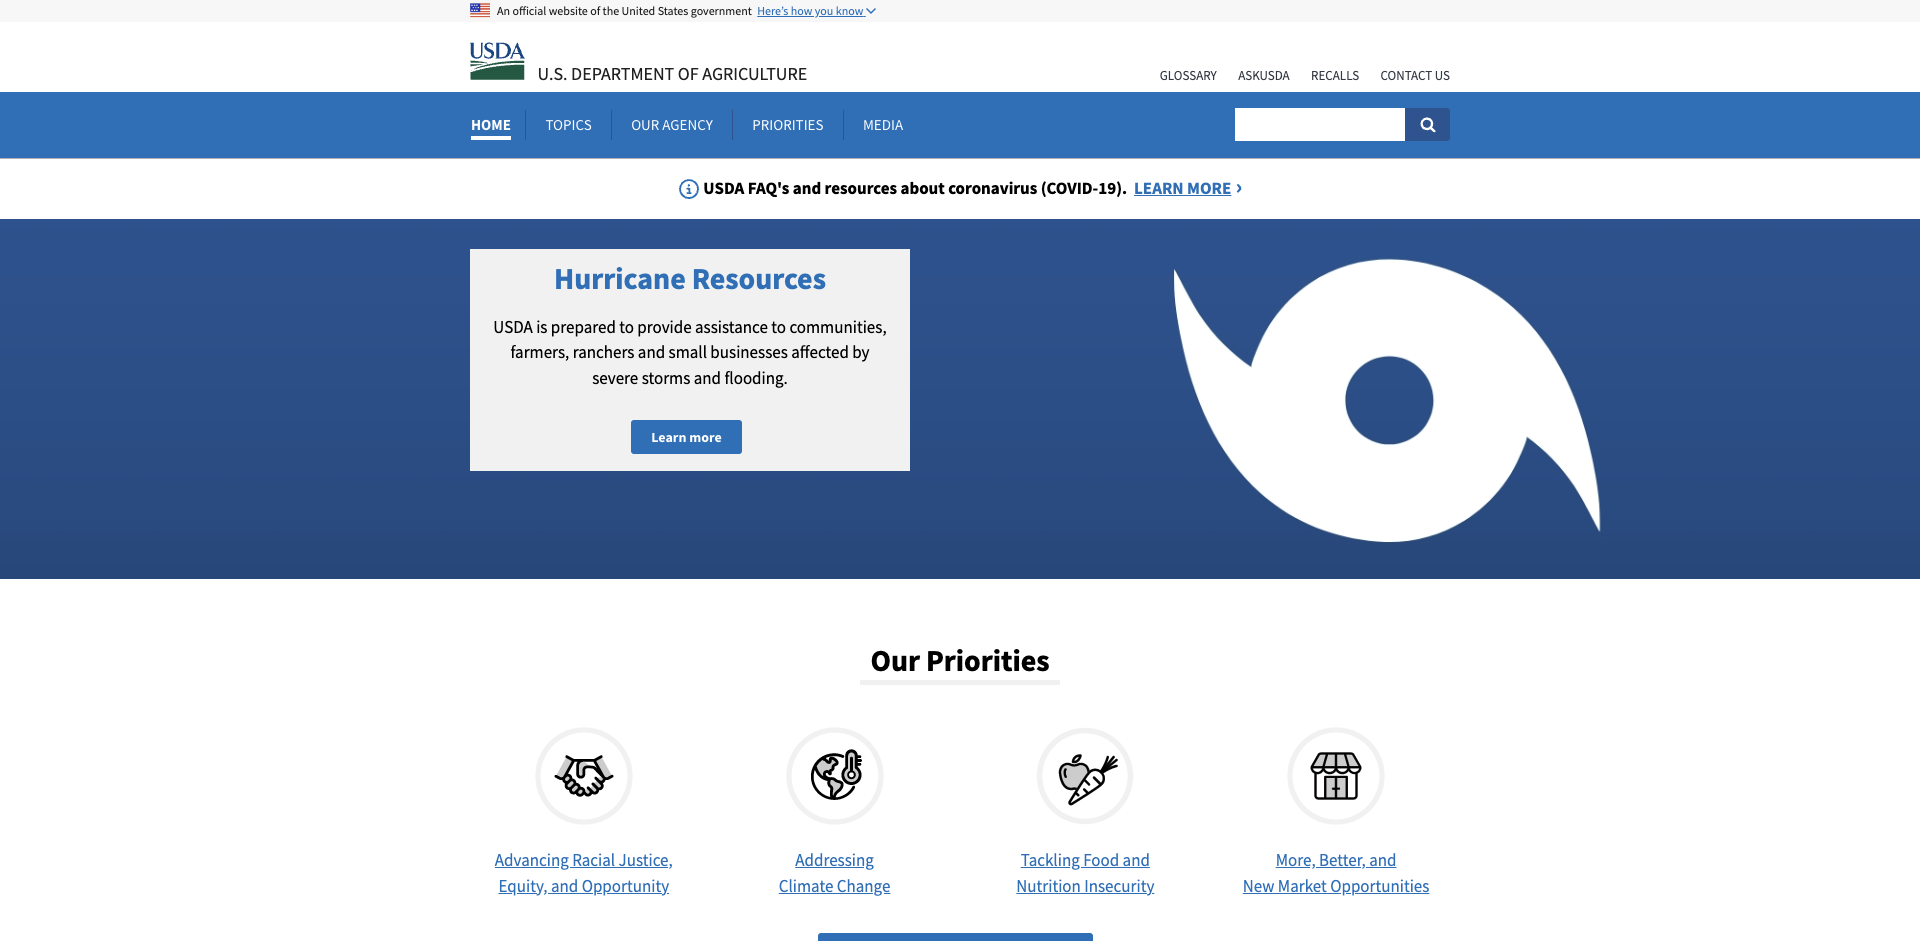button: (611, 92, 732, 158), (732, 92, 844, 158), (525, 92, 612, 158), (842, 92, 923, 158), (632, 420, 742, 455), (818, 934, 1093, 941), (757, 2, 863, 18), (1404, 108, 1450, 141), (757, 5, 876, 17)
input: (1236, 108, 1404, 141)
link: (470, 727, 698, 832), (721, 727, 949, 832), (971, 727, 1199, 832), (1222, 727, 1450, 832), (1243, 849, 1429, 897), (495, 849, 672, 897), (1016, 849, 1155, 897), (538, 62, 807, 85), (779, 849, 890, 897), (456, 92, 527, 158), (1134, 176, 1242, 198), (1380, 66, 1450, 86), (1160, 66, 1217, 86), (1238, 66, 1289, 86), (1311, 66, 1359, 86)
